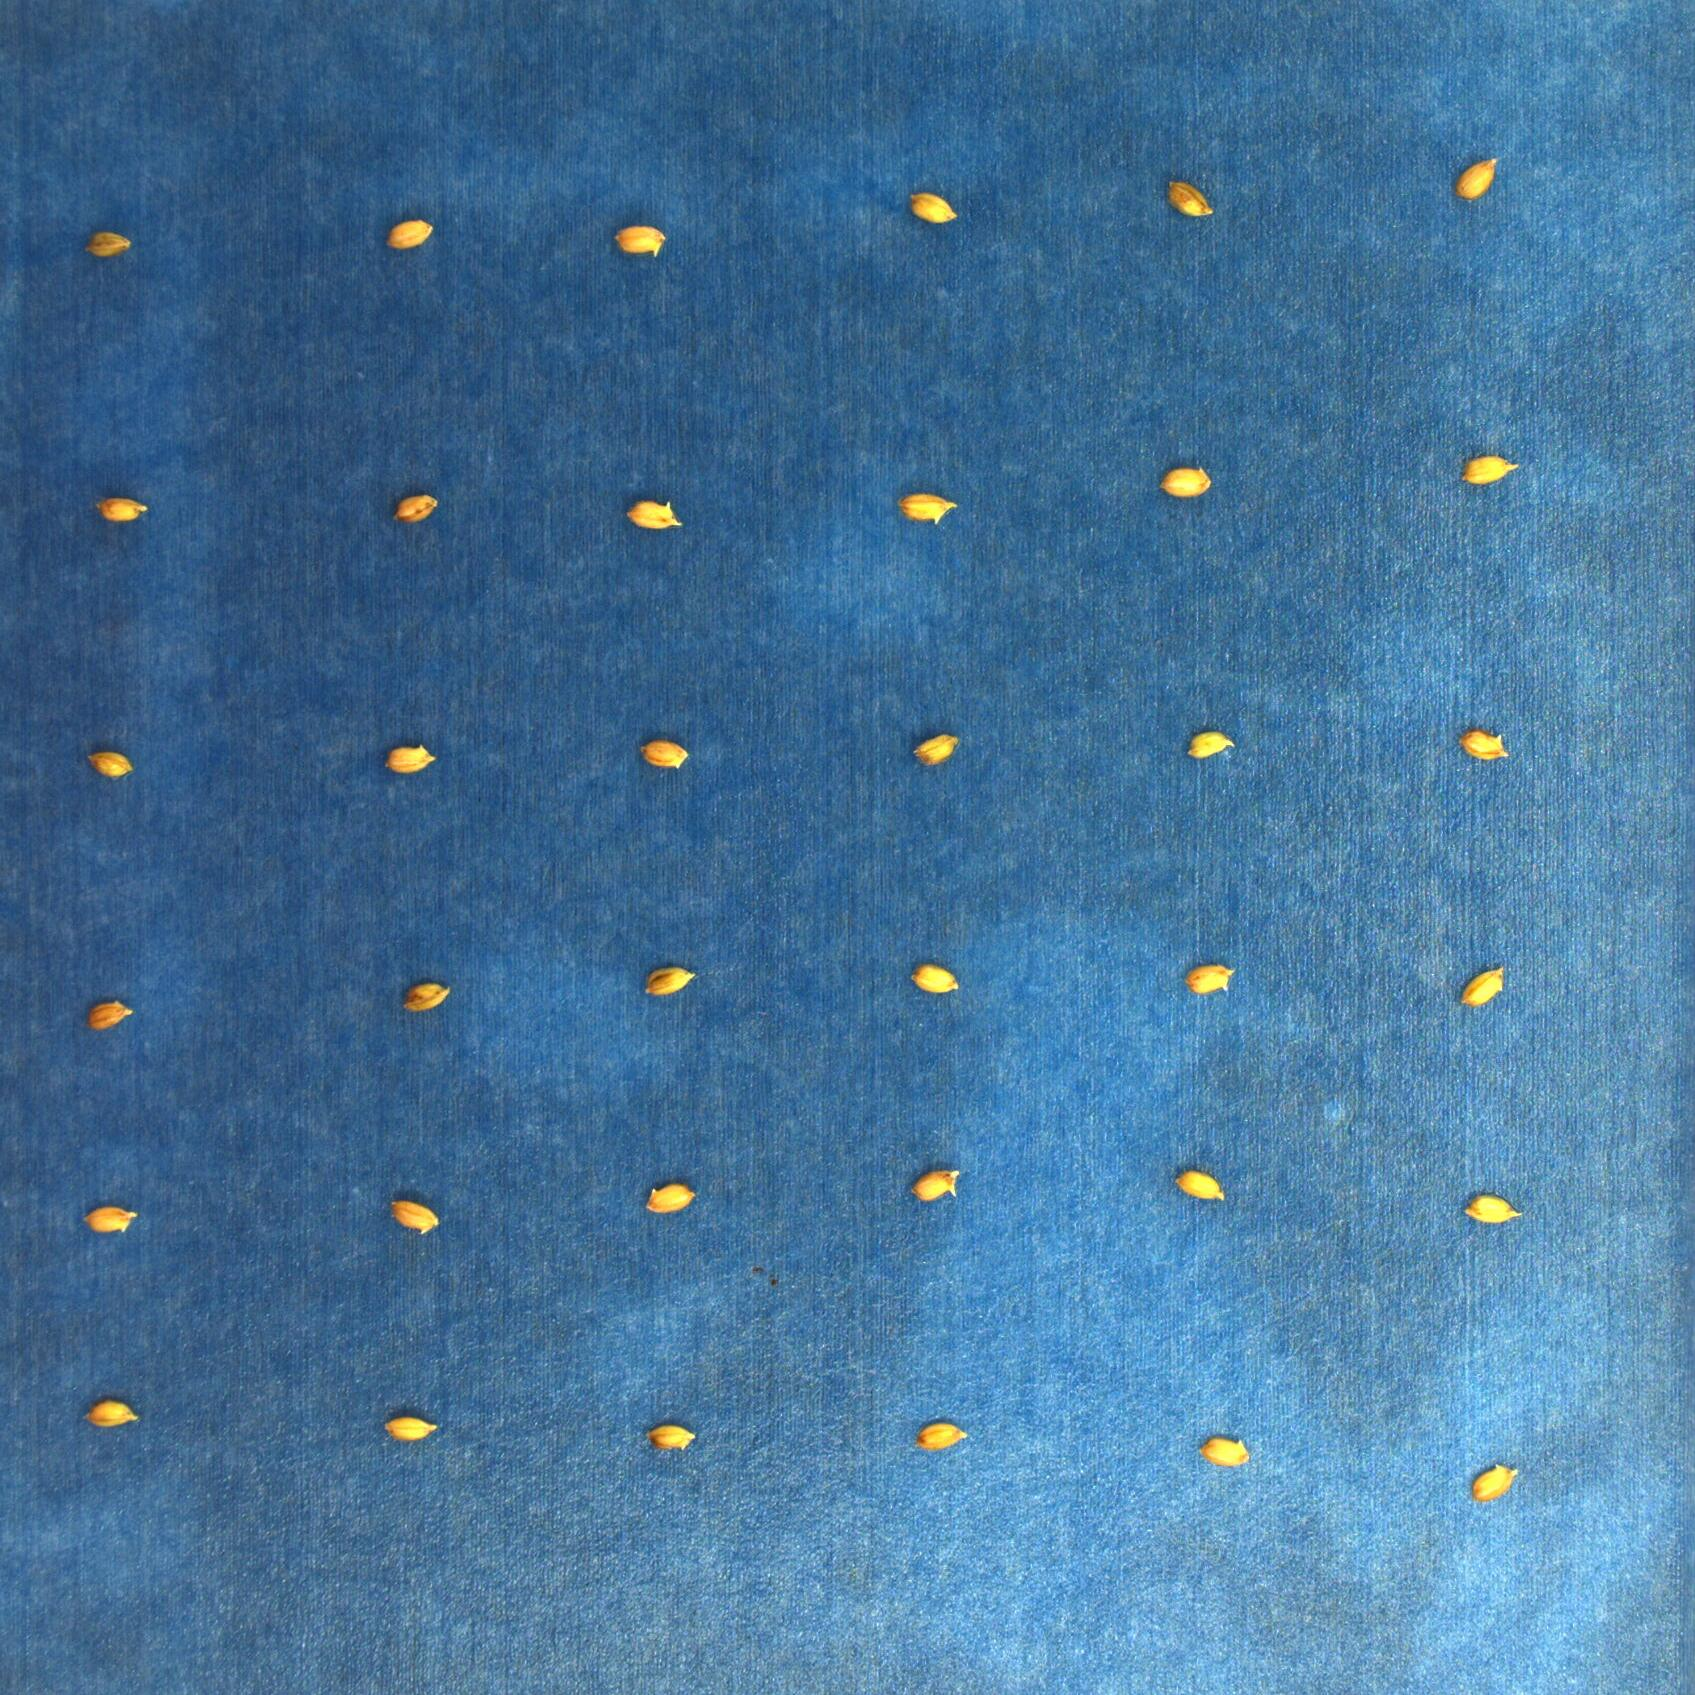not sprout: (1454, 961, 1507, 1010), (1451, 730, 1518, 765), (1451, 152, 1499, 200), (1458, 450, 1520, 487), (1169, 1167, 1231, 1205), (906, 1166, 965, 1205), (1458, 1192, 1523, 1226), (640, 962, 702, 998), (896, 490, 962, 523), (905, 189, 962, 227), (632, 737, 694, 771), (380, 1409, 439, 1445), (612, 220, 667, 258), (1166, 179, 1215, 220), (1468, 1461, 1518, 1503), (910, 733, 967, 768), (385, 1200, 442, 1236), (1159, 461, 1214, 498), (1184, 726, 1243, 761), (382, 740, 438, 776), (643, 1181, 695, 1218), (643, 1420, 700, 1454), (910, 961, 962, 997), (92, 494, 152, 525), (627, 498, 688, 529), (78, 1208, 138, 1239), (82, 998, 133, 1034), (1198, 1434, 1251, 1468), (390, 489, 439, 525), (397, 979, 452, 1012), (383, 216, 435, 250), (81, 230, 137, 261), (913, 1420, 969, 1451), (82, 1400, 140, 1430), (1183, 965, 1236, 997), (87, 750, 137, 781)
